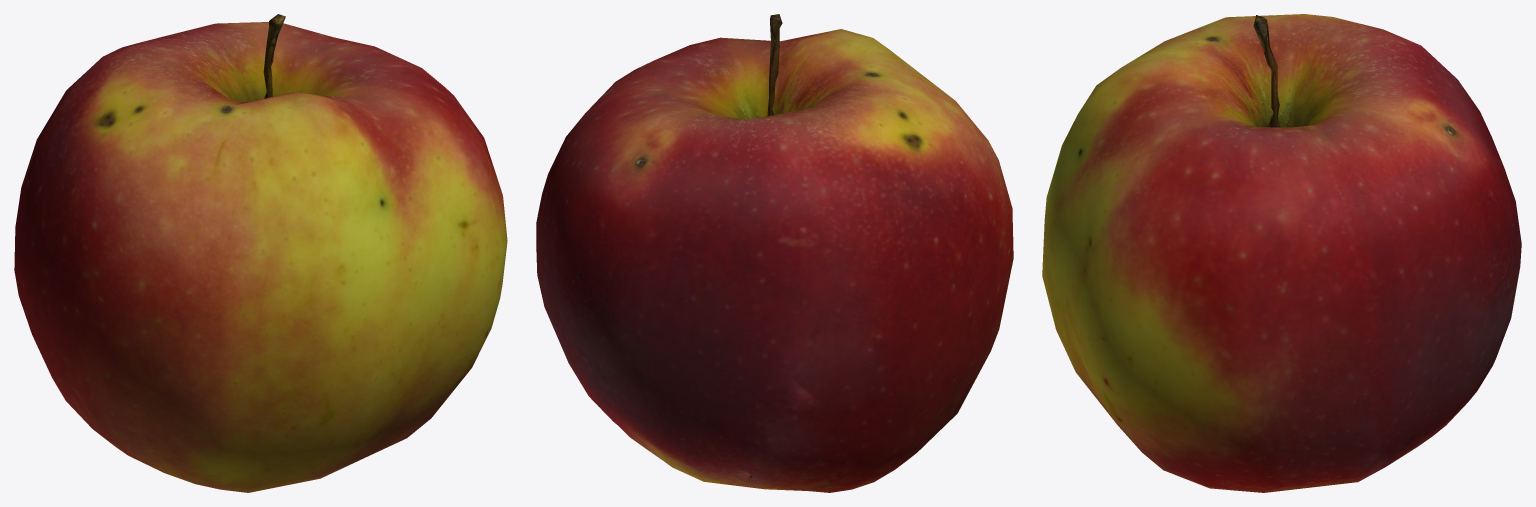
Rendered from apple2.fbx.
3 renders of one model, left to right at view 1: azimuth 30°, elevation 25°; view 2: azimuth 150°, elevation 25°; view 3: azimuth 270°, elevation 25°, orthographic. The views are drawn at different scales.
Visible parts, largest first — view 1: apple02_lr; view 2: apple02_lr; view 3: apple02_lr.
Boxes of the visible parts, x1,y1,x2,y2 form: apple02_lr: (14,14,507,492); apple02_lr: (536,14,1013,492); apple02_lr: (1042,14,1521,492).
Size of the model in its own units: 99.42 by 101 by 97.9.
